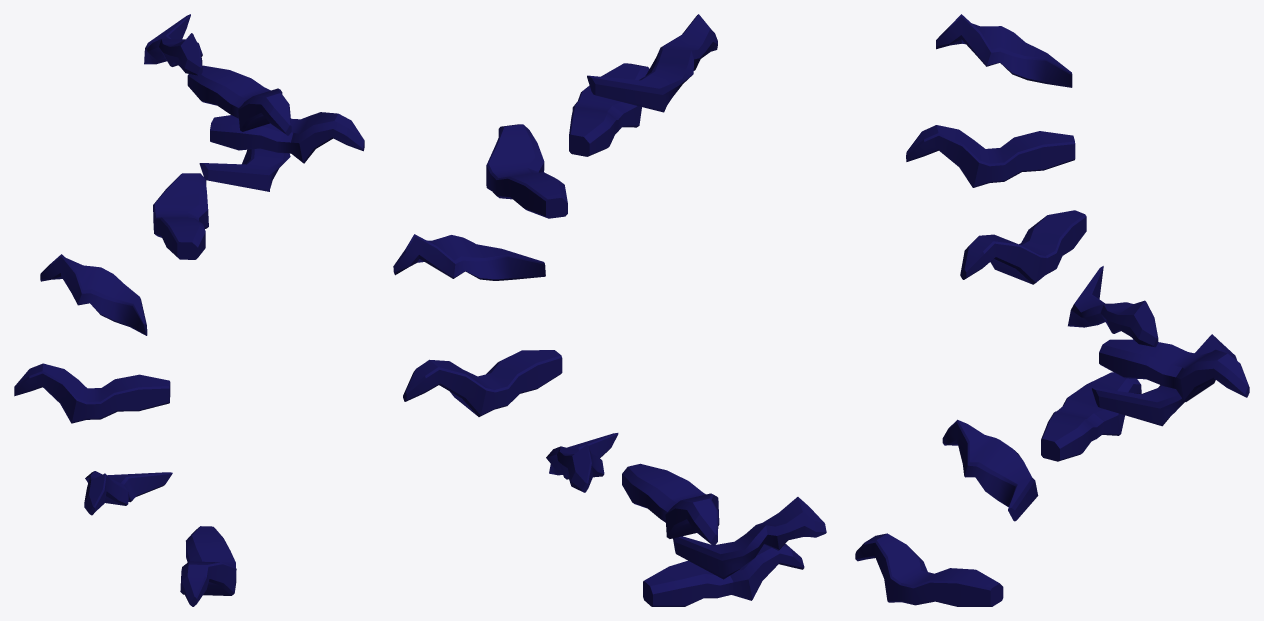
The model's file is branchesJump.glb.
The picture shows the model from 3 angles, left to right: view 1: azimuth 30°, elevation 25°; view 2: azimuth 150°, elevation 25°; view 3: azimuth 270°, elevation 25°; orthographic projection. The views are drawn at different scales.
Parts seen in each view (by area): view 1: pCube4, pCube8, pCube9, pCube6, pCube5, pCube2, pCube7, pCube3, pCube10; view 2: pCube6, pCube8, pCube2, pCube10, pCube4, pCube3, pCube7, pCube9, pCube5; view 3: pCube9, pCube2, pCube6, pCube8, pCube3, pCube4, pCube10, pCube7, pCube5.
Boxes of the visible parts, x1,y1,x2,y2 form: pCube4: (14,363,170,423); pCube8: (210,112,364,163); pCube9: (187,65,291,135); pCube6: (153,173,208,259); pCube5: (40,254,147,335); pCube2: (180,526,236,606); pCube7: (199,148,290,191); pCube3: (84,471,172,515); pCube10: (144,14,202,76); pCube6: (403,350,562,416); pCube8: (486,124,567,218); pCube2: (643,544,804,606); pCube10: (587,14,717,112); pCube4: (622,463,719,545); pCube3: (673,497,826,579); pCube7: (393,234,545,280); pCube9: (569,63,649,156); pCube5: (546,433,618,492); pCube9: (906,125,1075,187); pCube2: (855,533,1003,606); pCube6: (1099,339,1249,401); pCube8: (960,210,1086,284); pCube3: (942,419,1038,521); pCube4: (1041,372,1141,461); pCube10: (936,14,1072,87); pCube7: (1068,266,1158,347); pCube5: (1092,334,1237,426).
Bounding box in the file's own units: 0.6844 × 1.19 × 0.7251.
